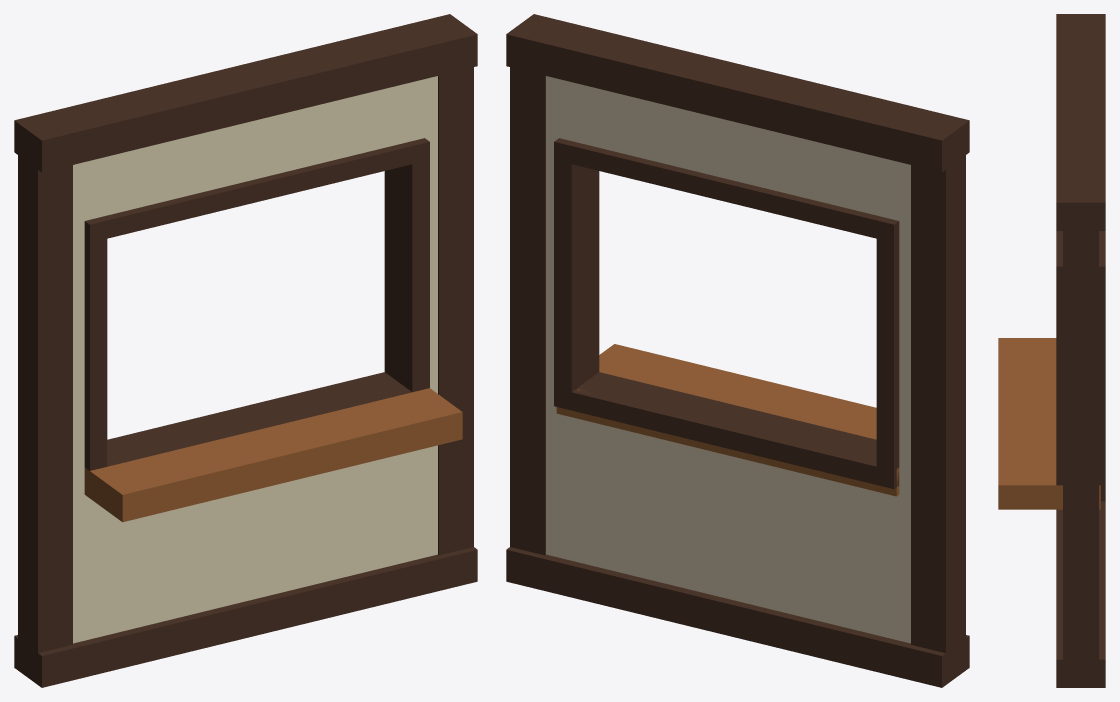
Rendered from 806_serving_hatch_socket_wall.fbx.
3 views of the same model, side by side, from view 1: azimuth 30°, elevation 25°; view 2: azimuth 150°, elevation 25°; view 3: azimuth 270°, elevation 25° (orthographic). The views are drawn at different scales.
Visible parts, largest first — view 1: 806_serving_hatch_socket_wall; view 2: 806_serving_hatch_socket_wall; view 3: 806_serving_hatch_socket_wall.
Boxes of the visible parts, left/top/right/bottom form: 806_serving_hatch_socket_wall: left=14, top=14, right=477, bottom=687; 806_serving_hatch_socket_wall: left=506, top=14, right=969, bottom=687; 806_serving_hatch_socket_wall: left=998, top=14, right=1105, bottom=687.
Bounding box in the file's own units: 2 × 2.4 × 0.48.
1 material, 1 textured.
